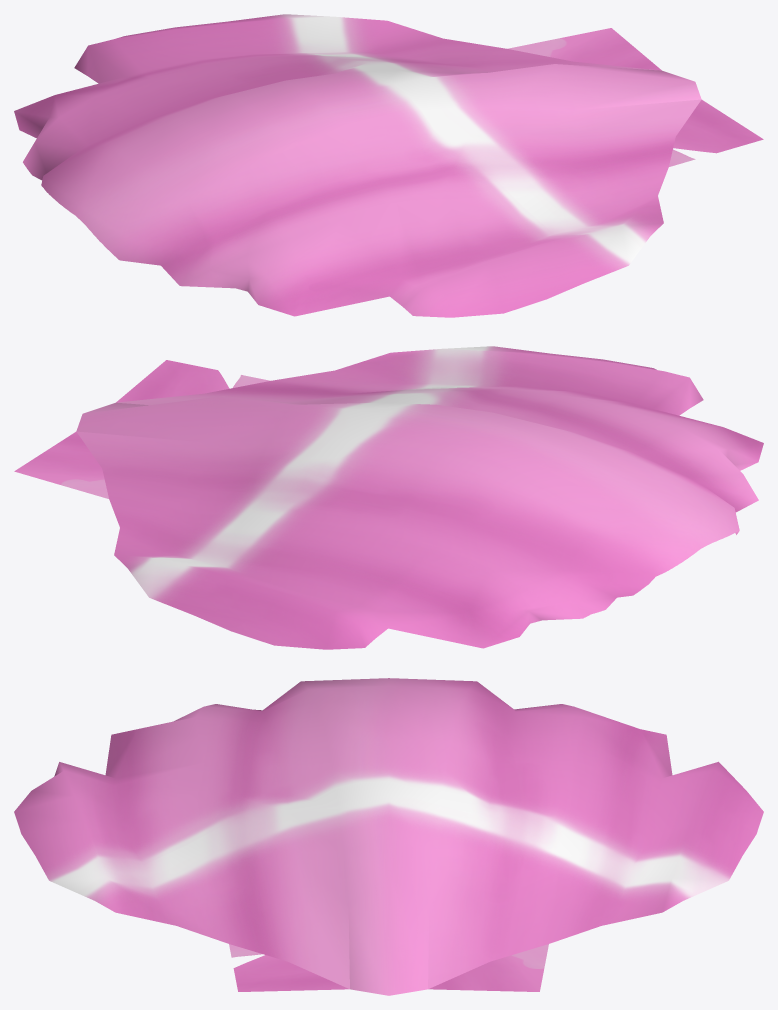
Rendered from BigJacques.fbx.
The picture shows the model from 3 angles, top to bottom: view 1: azimuth 30°, elevation 25°; view 2: azimuth 150°, elevation 25°; view 3: azimuth 270°, elevation 25°; orthographic projection.
Visible parts, largest first — view 1: pPlane1; view 2: pPlane1; view 3: pPlane1.
Part boxes in pixels (x1,y1,x2,y2): pPlane1: (14, 14, 763, 317); pPlane1: (14, 346, 763, 649); pPlane1: (14, 678, 763, 995).
Bounding box in the file's own units: 0.4029 × 0.0472 × 0.4149.
